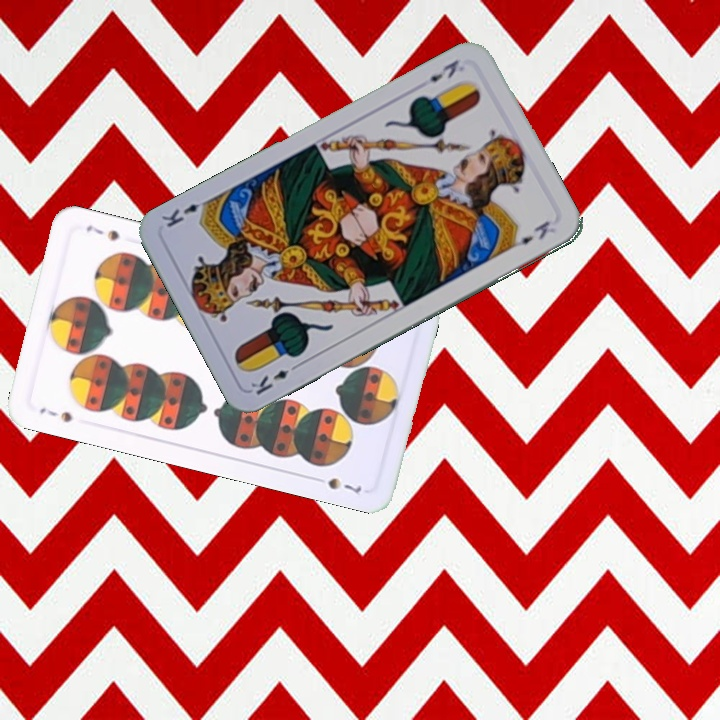EK: (246, 359, 303, 398), (425, 55, 462, 85)
S7: (35, 403, 75, 425)
